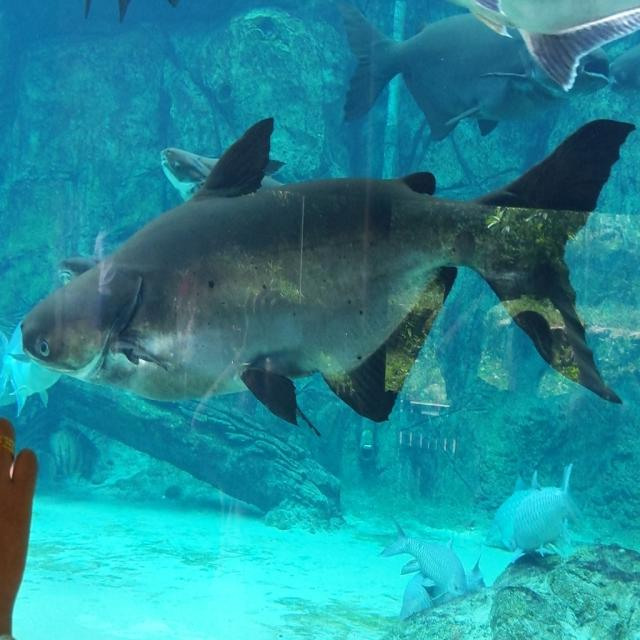Mekong_Giant_Catfish: (20, 115, 635, 437)
